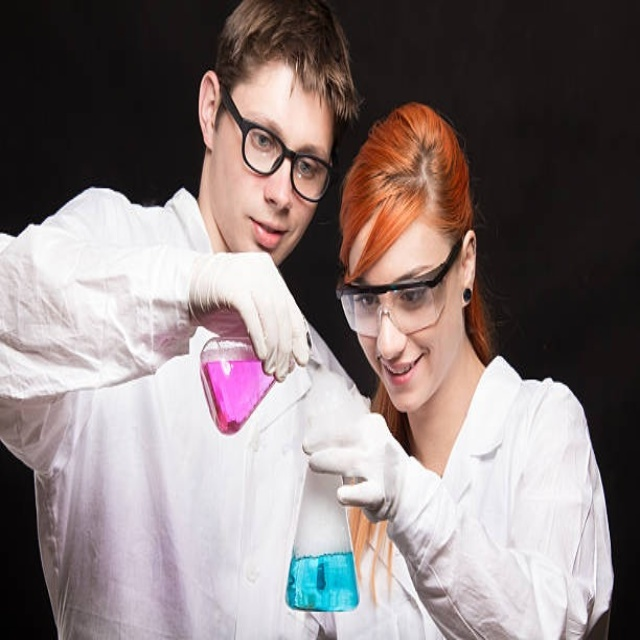Gafas: (222, 85, 338, 203), (336, 232, 465, 336)
Guantes: (187, 252, 313, 384), (307, 412, 422, 529)
Sin_mascara: (376, 348, 431, 398), (246, 207, 295, 254)
